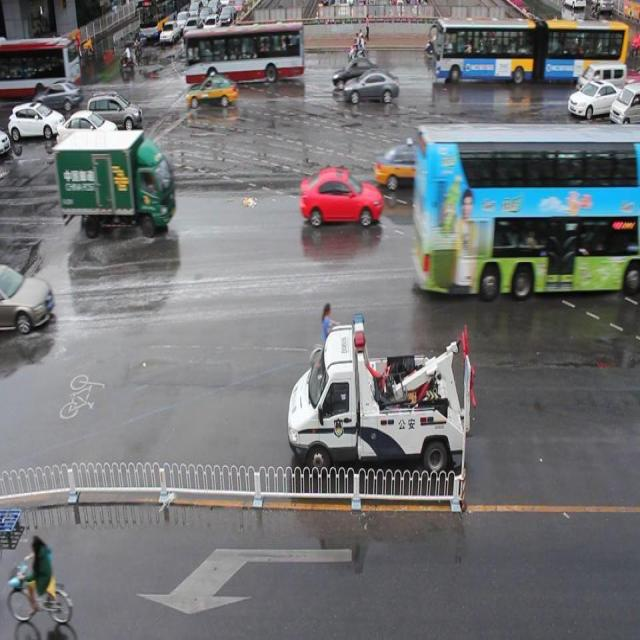BigCar: (413, 125, 640, 308), (53, 131, 177, 240), (428, 10, 627, 77), (186, 27, 306, 87), (0, 42, 82, 86), (137, 0, 159, 45)
car: (288, 318, 462, 477), (294, 169, 384, 243), (370, 131, 419, 198), (344, 72, 404, 114), (8, 99, 62, 144), (89, 86, 145, 127), (188, 77, 242, 116), (568, 77, 612, 119), (615, 82, 640, 125), (160, 23, 179, 48), (219, 6, 234, 24)
